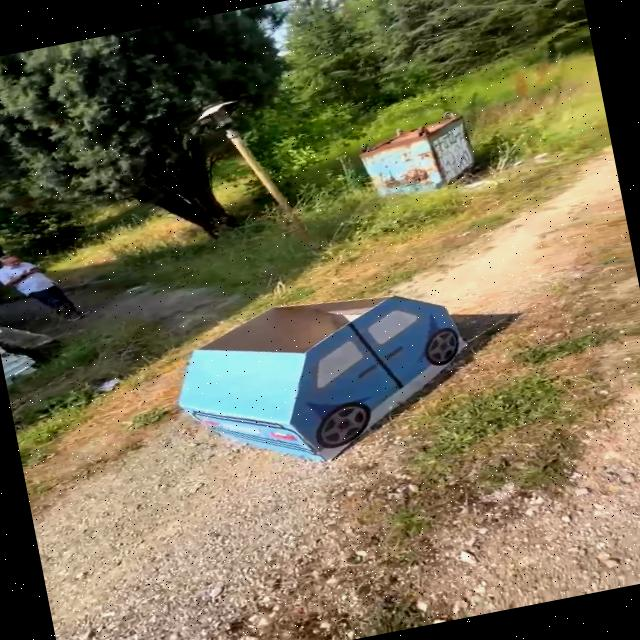blue_car: (132, 240, 500, 507)
